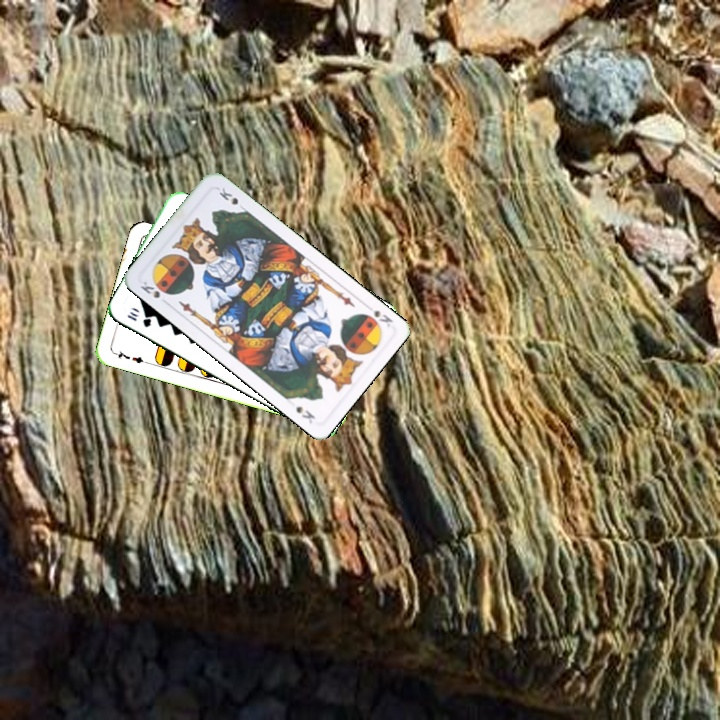E7: (110, 347, 150, 366)
G10: (123, 308, 154, 330)
SK: (136, 277, 171, 307), (359, 306, 396, 331)
